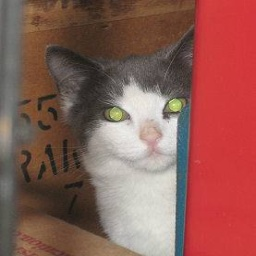cat: (44, 23, 191, 254)
